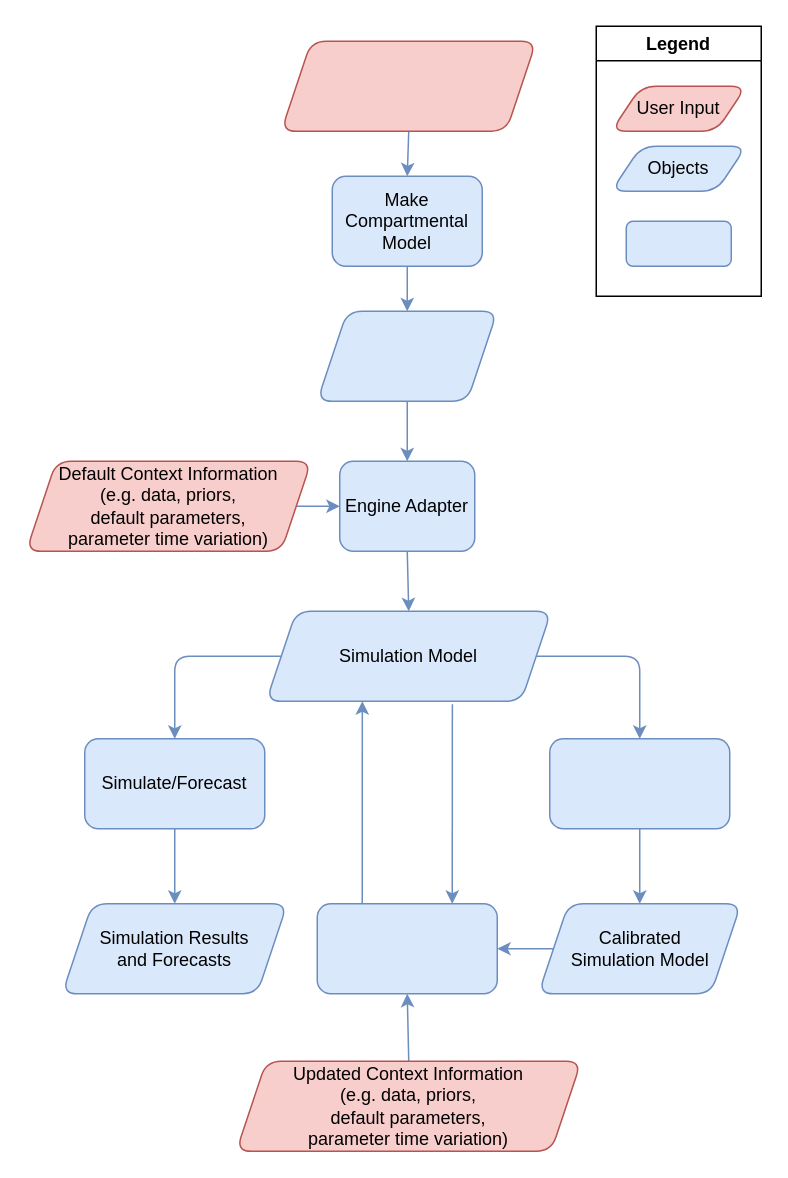
Image size: 788x1178. Some labels were removed from this diagram. The centre of each missing label's shape, as x and y in pixels:
"Calibrate" goes at point (639, 783).
"Compartmental Model" goes at point (406, 355).
"Functions" goes at point (678, 243).
"Model Structure Information (e.g. compartment topology, flow rates)" goes at point (408, 85).
"Scenario Builder" goes at point (406, 948).
